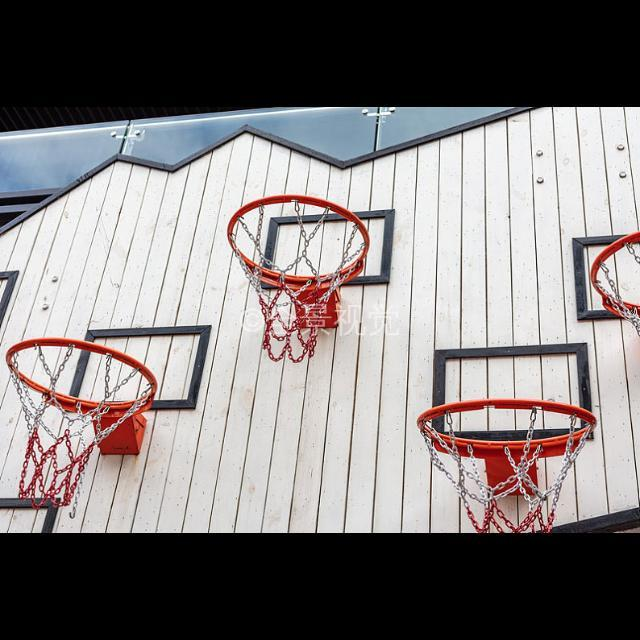rim: (5, 339, 156, 507), (418, 399, 596, 533), (228, 194, 368, 362)
